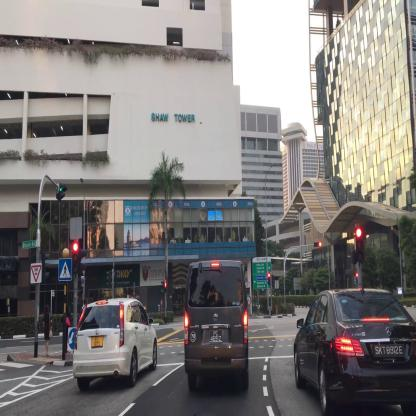red_traffic_light: (356, 228, 364, 260), (72, 242, 79, 274), (314, 242, 321, 246), (268, 272, 270, 284)
